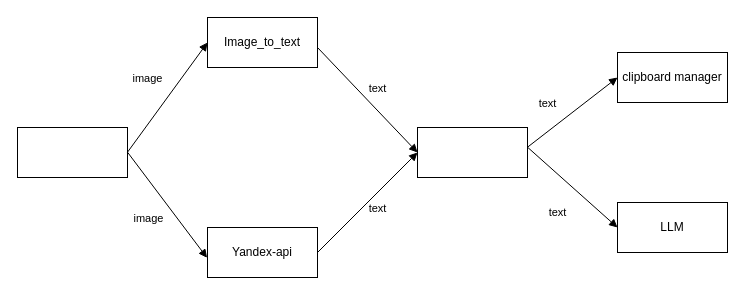
Image size: 745x295. Some labels were removed from this diagram. Each missing label, with the centre of its shape:
"Screenshot_maker" belongs at [72,152].
"Text_Processor" belongs at [472,152].
